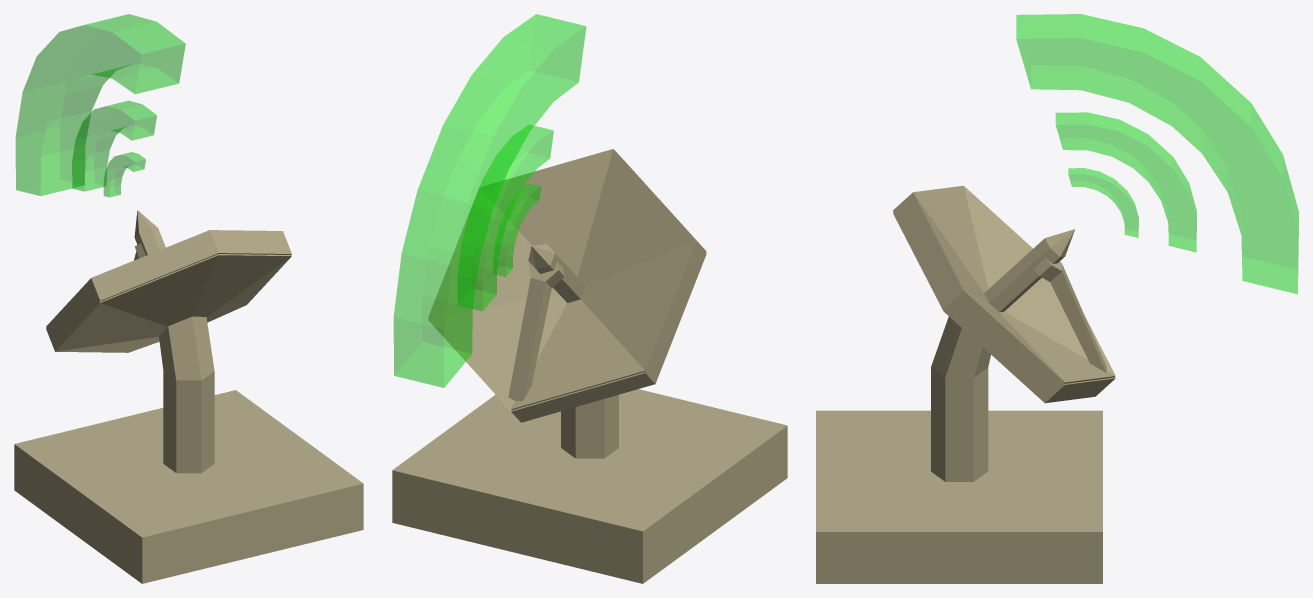
The model's file is antenna.glb.
3 renders of one model, left to right at view 1: azimuth 30°, elevation 25°; view 2: azimuth 150°, elevation 25°; view 3: azimuth 270°, elevation 25°, orthographic. The views are drawn at different scales.
Visible parts, largest first — view 1: antenna, Cube, Cylinder; view 2: antenna, Cube, Cylinder; view 3: antenna, Cube, Cylinder.
Part boxes in pixels (x1,y1,x2,y2): antenna: (14,210,363,583); Cube: (15,14,185,197); Cylinder: (46,243,291,472); antenna: (392,149,787,583); Cube: (393,14,586,387); Cylinder: (428,243,706,457); antenna: (816,185,1115,583); Cube: (1016,14,1298,294); Cylinder: (893,212,1115,481).
Size of the model in its own units: 1 by 1.91 by 1.68.
